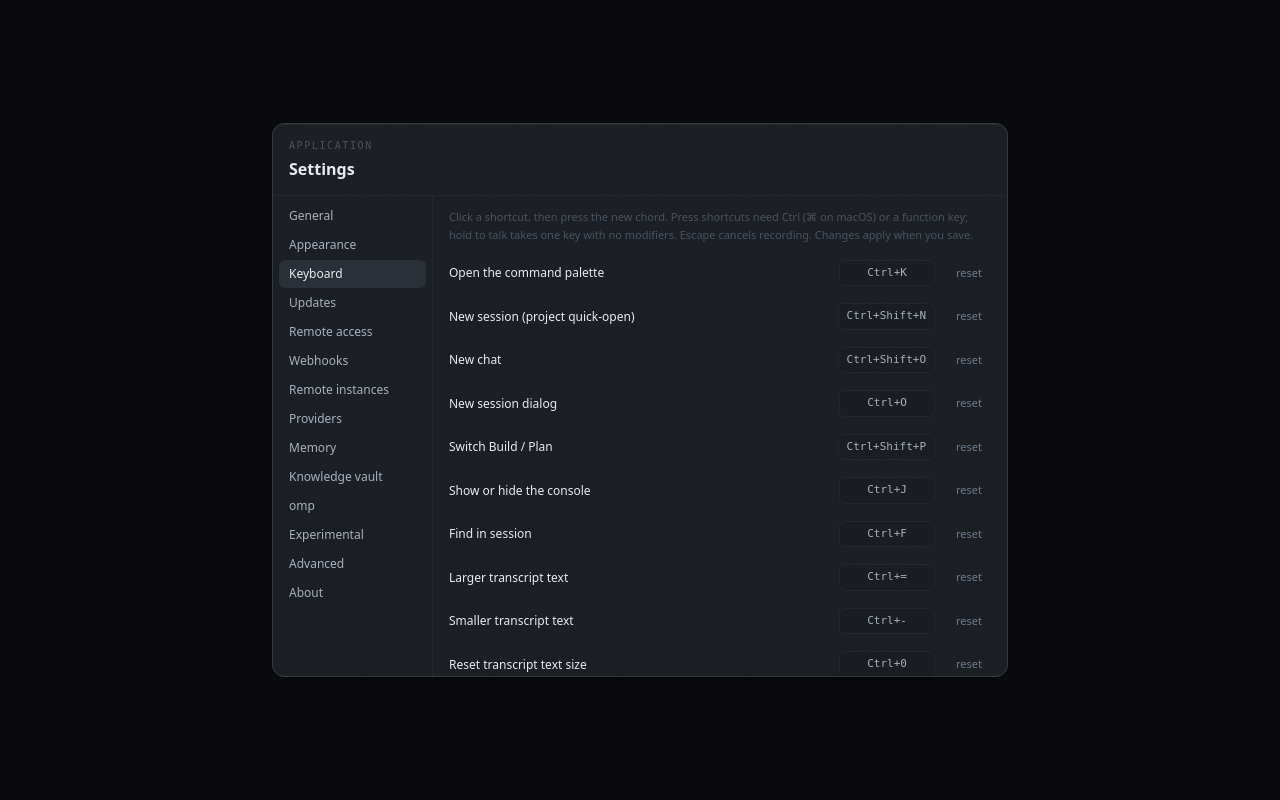
Scenario: Settings Keyboard page (issue #998) › records shifted punctuation by the key on the cap
Click the button "Ctrl+0" at (887, 665), box [839, 651, 935, 678]
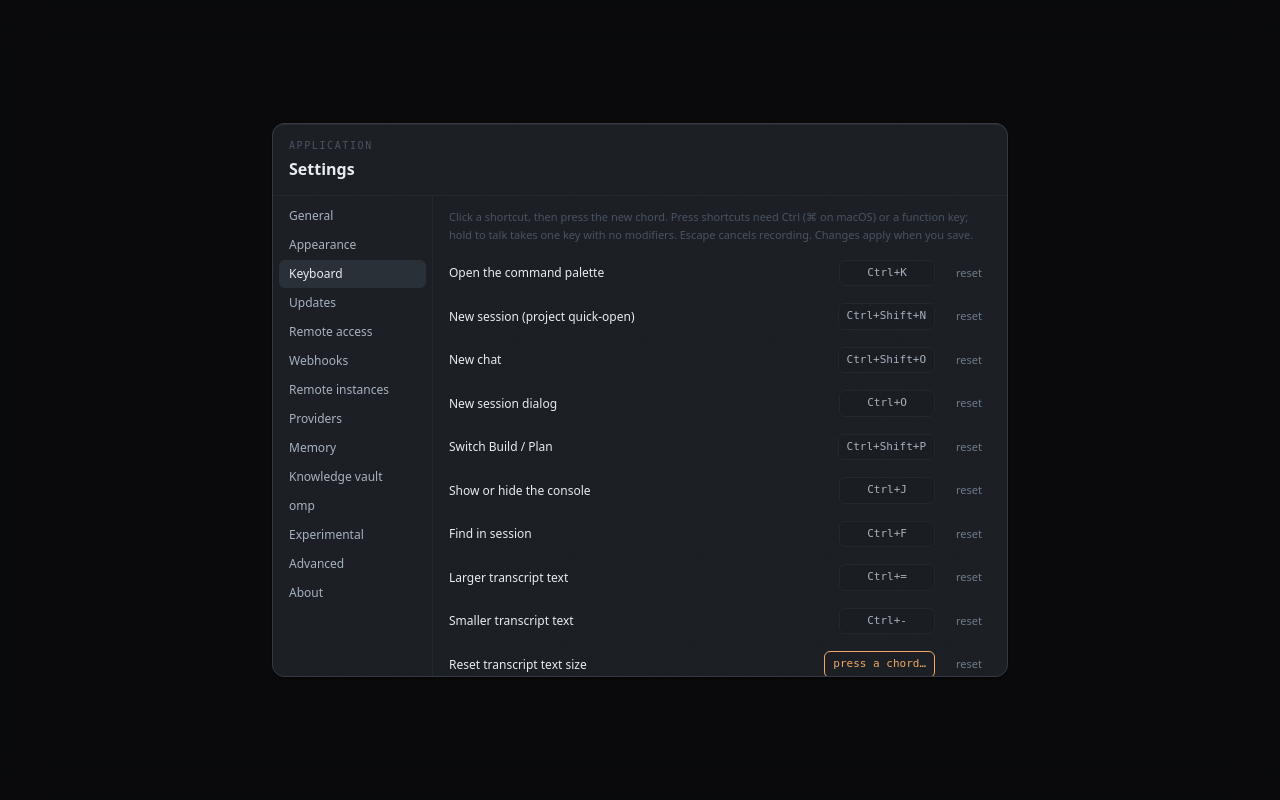
Press ) in the button "press a chord…", box [824, 651, 935, 678]
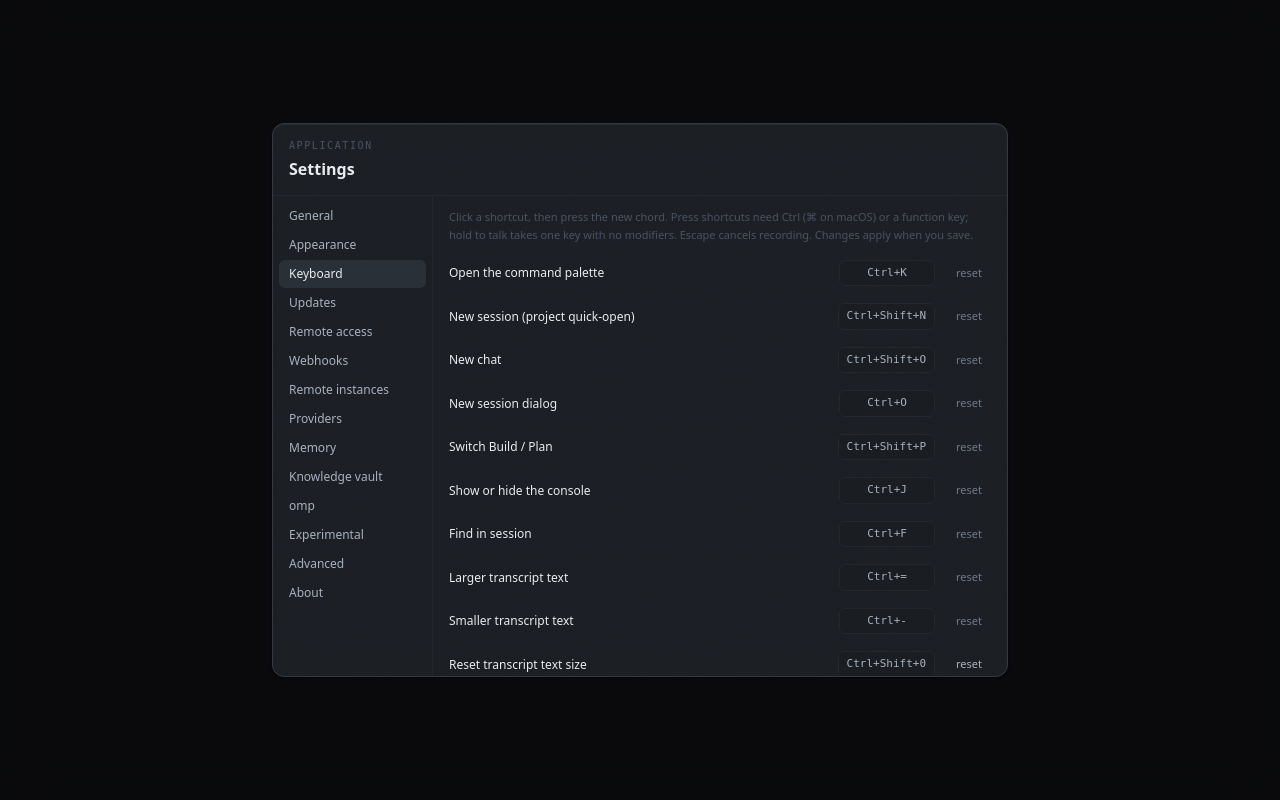
Check: the button "Ctrl+Shift+0" is shown, box [838, 651, 935, 676]
